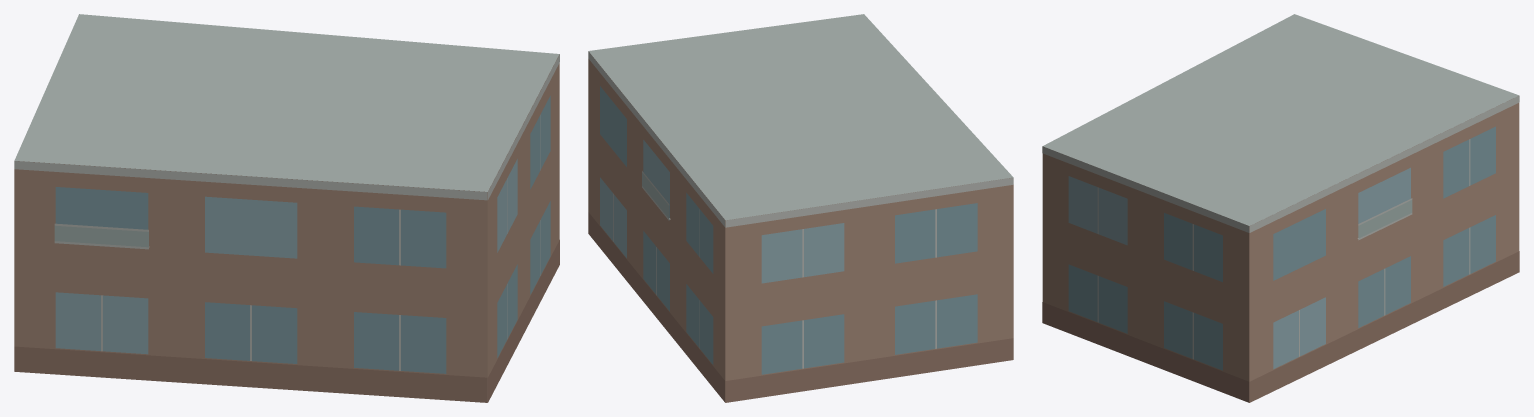
The model's file is survey-upis-32779426.glb.
3 renders of one model, left to right at view 1: azimuth 30°, elevation 25°; view 2: azimuth 150°, elevation 25°; view 3: azimuth 270°, elevation 25°, orthographic. The views are drawn at different scales.
Visible parts, largest first — view 1: survey-upis-32779426.tmp; view 2: survey-upis-32779426.tmp; view 3: survey-upis-32779426.tmp.
Part boxes in pixels (x1=…): survey-upis-32779426.tmp: x1=14, y1=14, x2=559, y2=402; survey-upis-32779426.tmp: x1=588, y1=14, x2=1013, y2=402; survey-upis-32779426.tmp: x1=1042, y1=14, x2=1519, y2=402.
Size of the model in its own units: 15.7 by 6.1 by 14.92.
